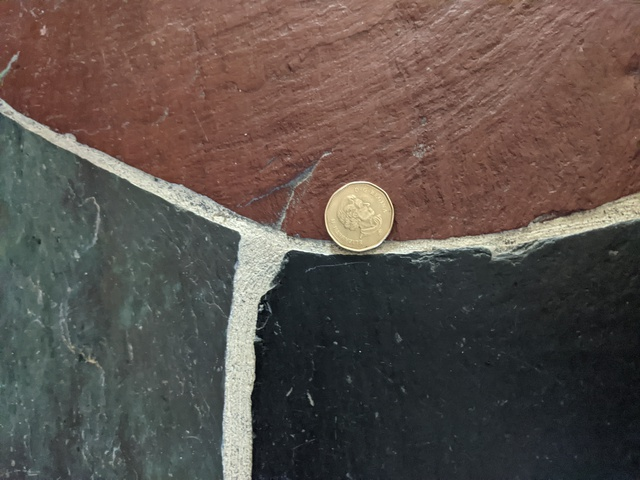loonie: (317, 177, 404, 256)
